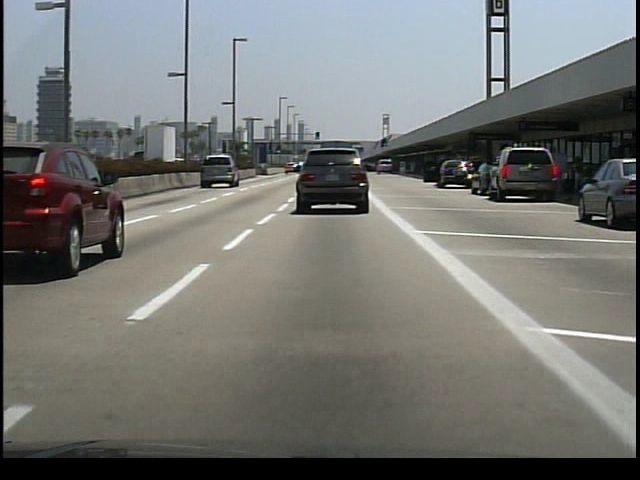person: (568, 152, 587, 200)
